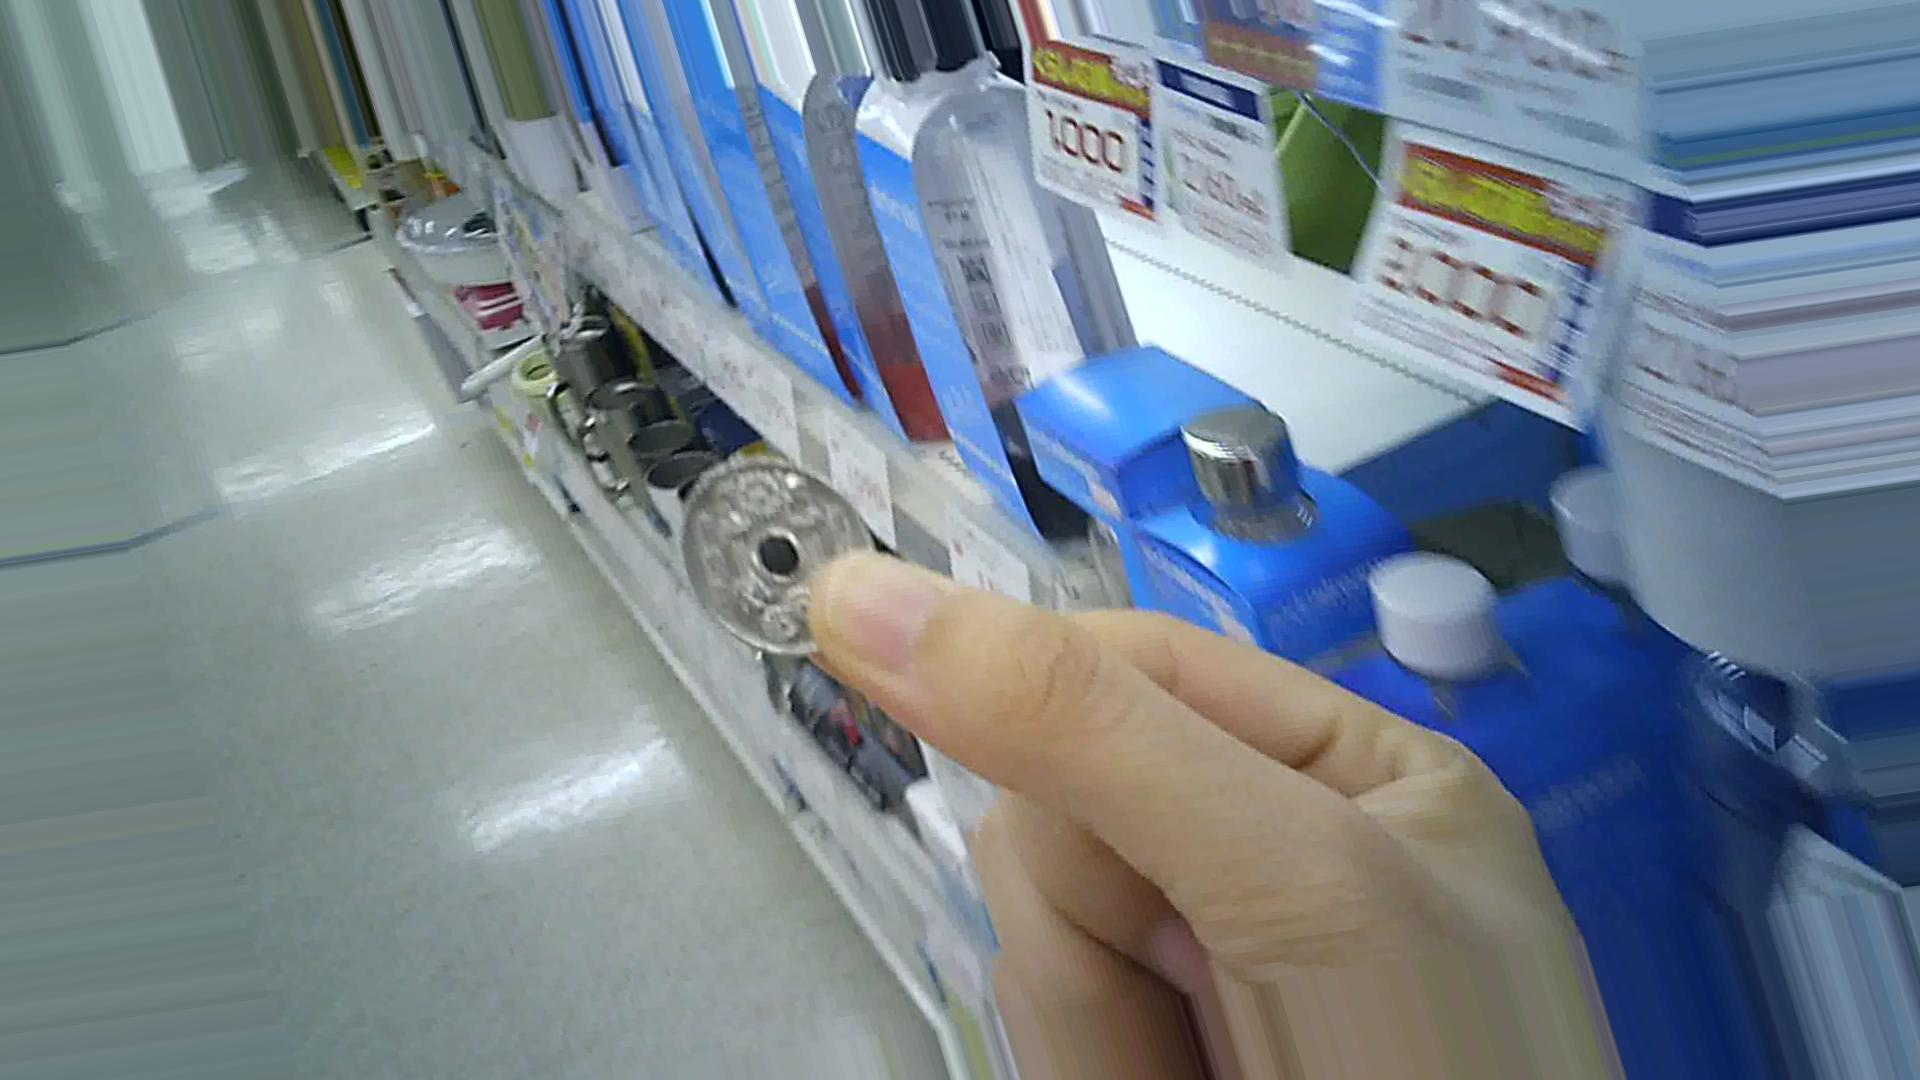50 Yen: (683, 458, 884, 655)
